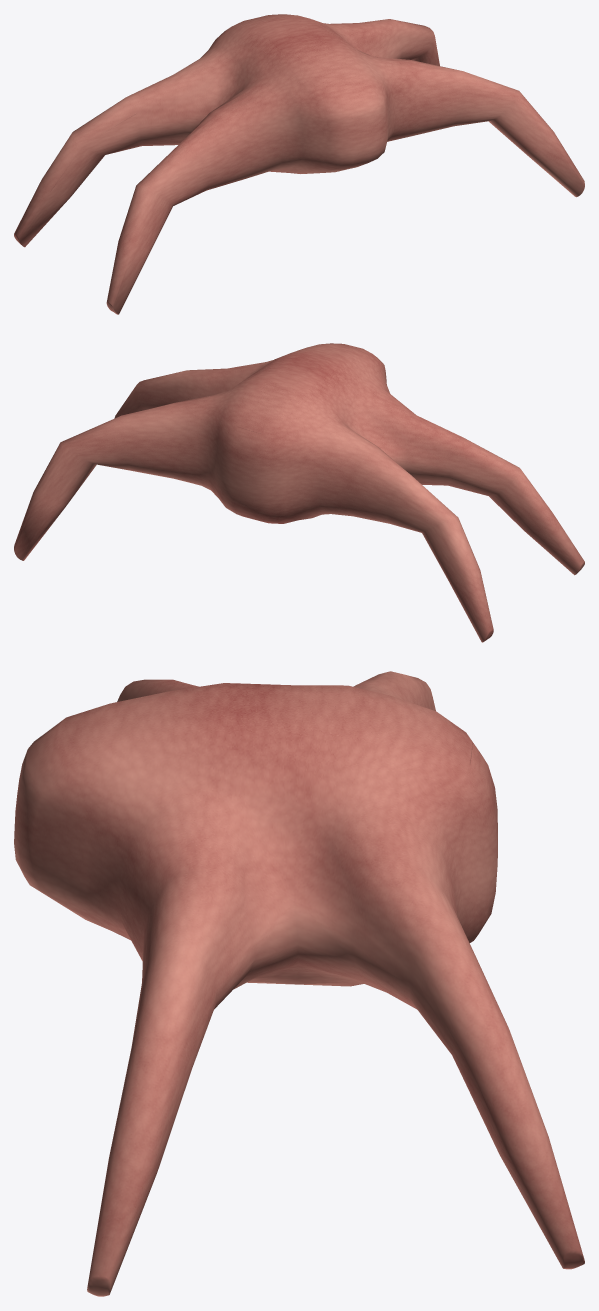
File: creature.glb
3 renders of one model, top to bottom at view 1: azimuth 30°, elevation 25°; view 2: azimuth 150°, elevation 25°; view 3: azimuth 270°, elevation 25°, orthographic. The views are drawn at different scales.
Parts seen in each view (by area): view 1: Cube; view 2: Cube; view 3: Cube.
Boxes of the visible parts, bbox=[...] form: Cube: bbox=[14, 14, 584, 314]; Cube: bbox=[14, 343, 584, 642]; Cube: bbox=[14, 671, 584, 1296].
Bounding box in the file's own units: 7.86 × 2.96 × 4.1.
1 material, 1 textured.
